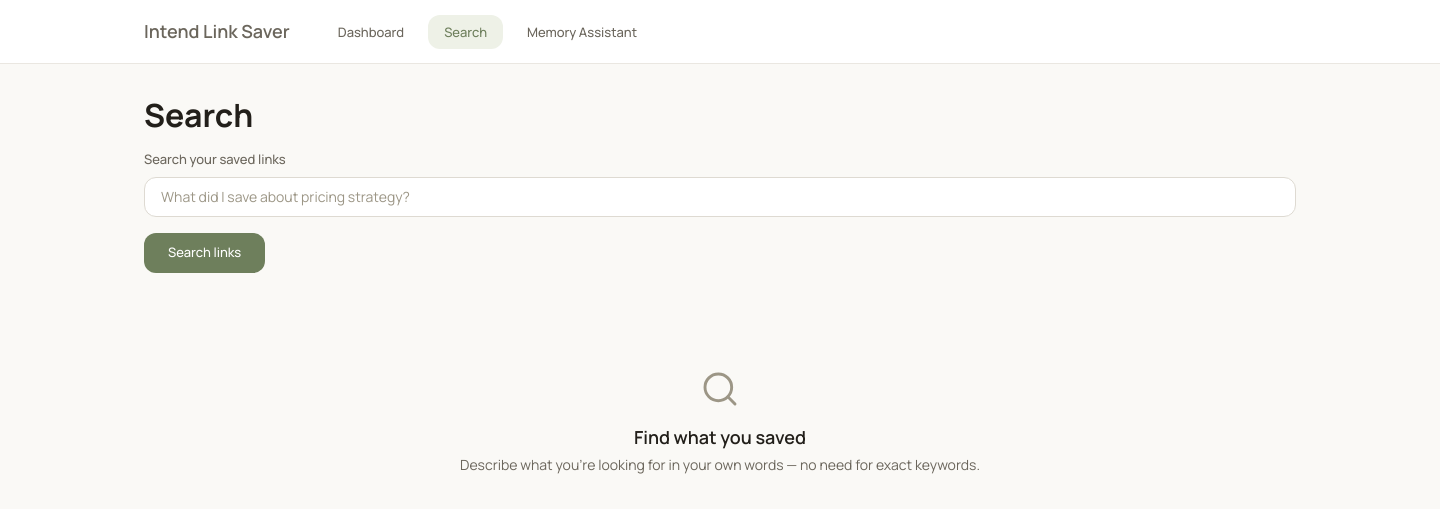
SearchPage › shows matching results after submitting a query
Type "pricing" into the field labelled "Search your saved links" at (720, 197), box x1=144 y1=177 x2=1296 y2=217
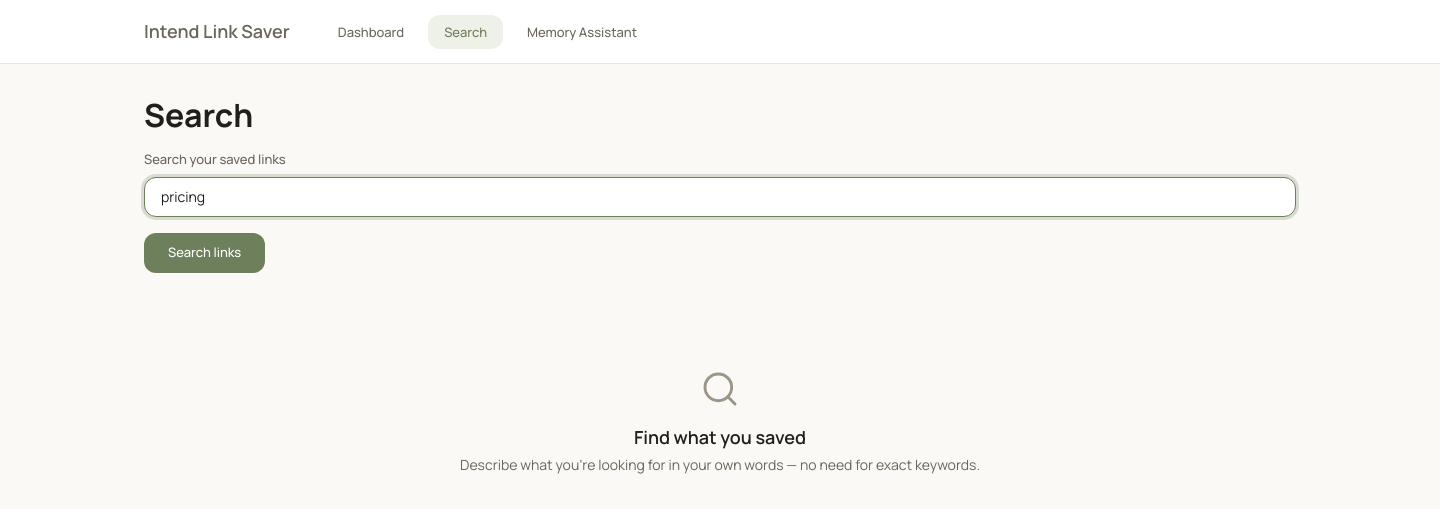
Click the button "Search links" at (205, 253), box x1=144 y1=233 x2=265 y2=273
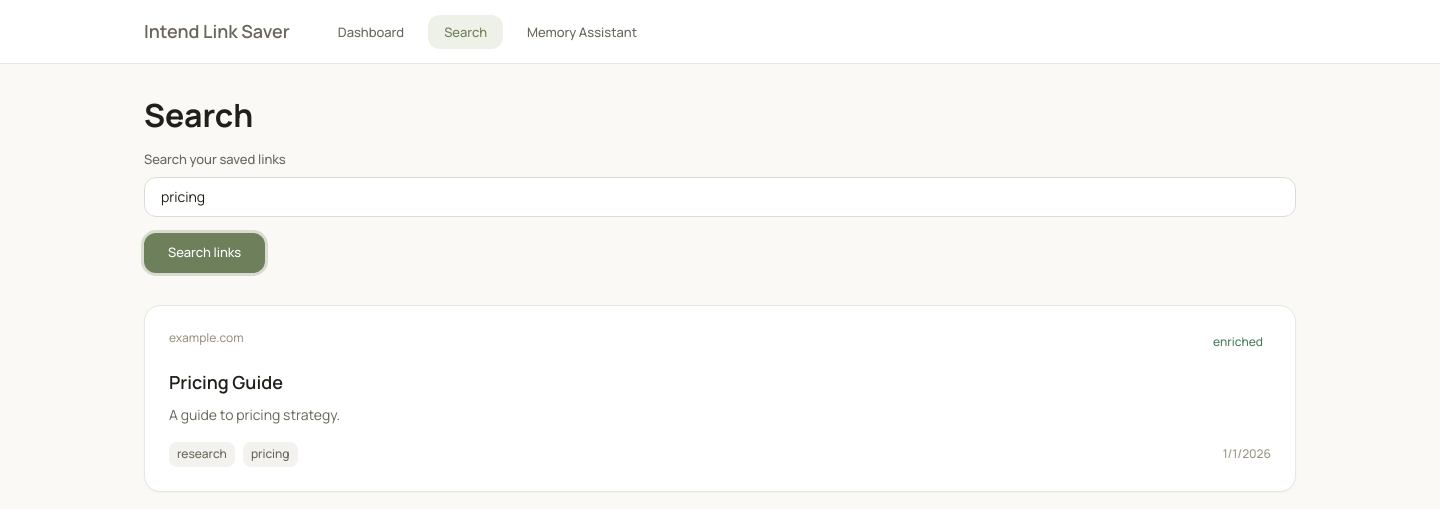
Now the heading "Pricing Guide" is shown, box x1=169 y1=370 x2=283 y2=394
